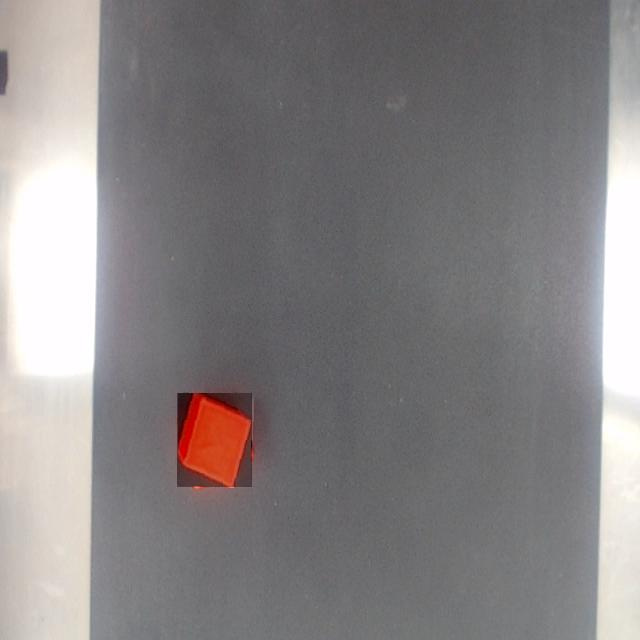Rojo: (178, 393, 252, 487)
